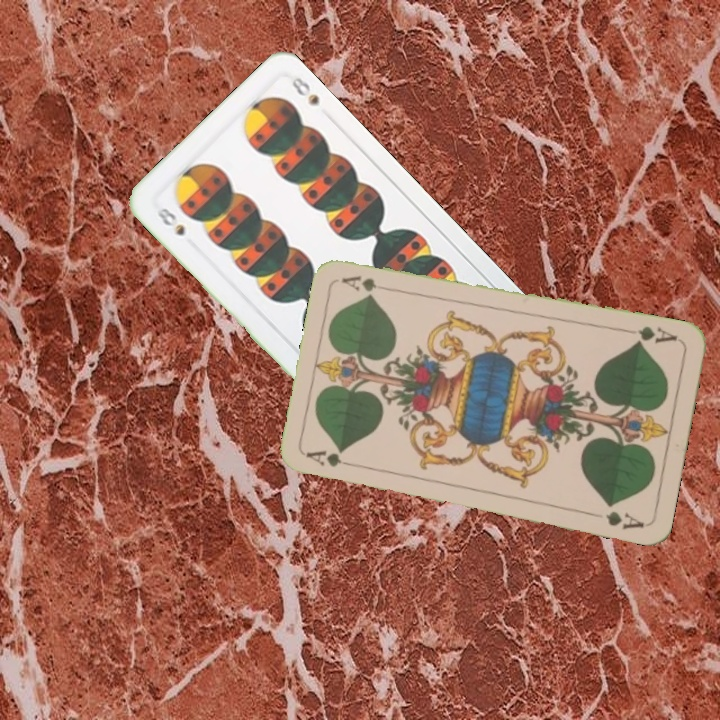GA: (303, 446, 362, 470), (632, 322, 680, 347)
S8: (152, 203, 188, 239)
